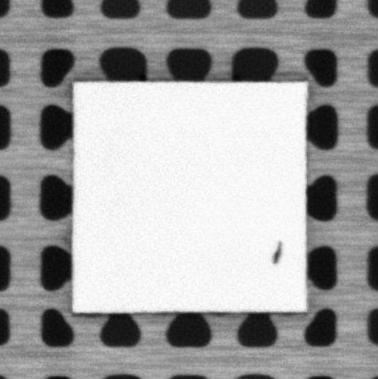DIE_INK: (270, 239, 284, 266)
